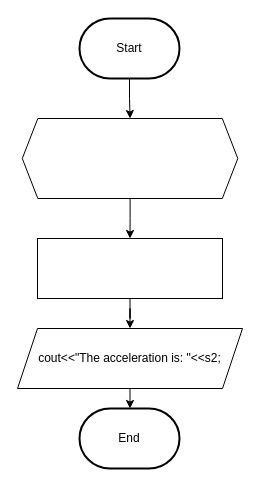
The diagram is 260 pixels wide and 486 high, and some of its shapes have lost their labels. Each missing label, with the centre of its shape:
"float m1=2500,m2=1500,m3,s1=1.5; double s2;" belongs at point (129, 158).
"m3=m2+m1; s2=m1*s1/m3;" belongs at point (129, 268).
